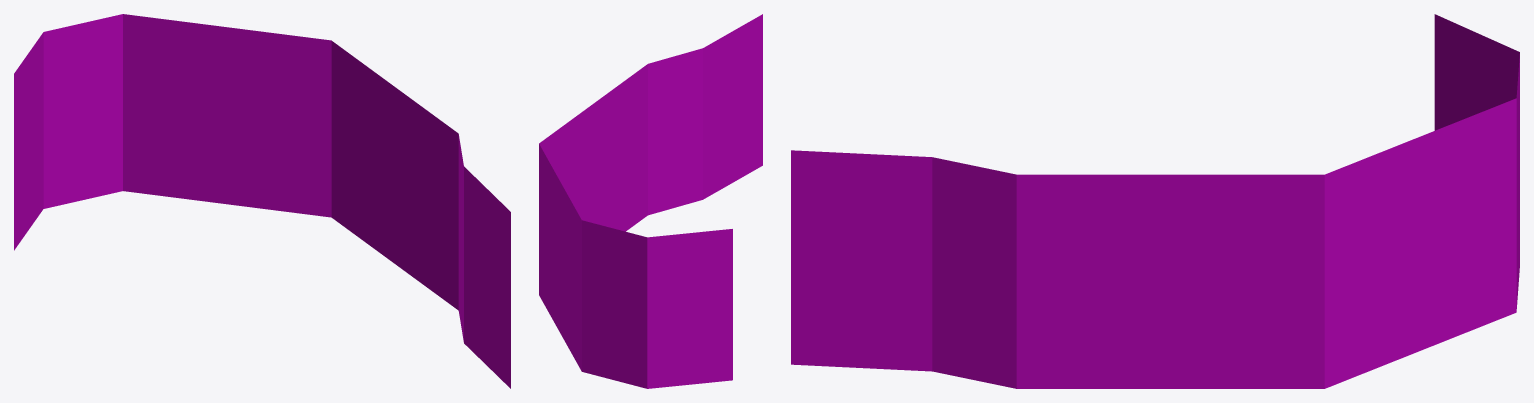
File: M5A_Zone1_CliffPoly2.glb
3 renders of one model, left to right at view 1: azimuth 30°, elevation 25°; view 2: azimuth 150°, elevation 25°; view 3: azimuth 270°, elevation 25°, orthographic. The views are drawn at different scales.
Visible parts, largest first — view 1: M5A_ZONE1_CLIFFPOLY2; view 2: M5A_ZONE1_CLIFFPOLY2; view 3: M5A_ZONE1_CLIFFPOLY2.
Part boxes in pixels (box(x1,y1,x2,y2)): M5A_ZONE1_CLIFFPOLY2: box(14, 14, 510, 388); M5A_ZONE1_CLIFFPOLY2: box(539, 14, 762, 388); M5A_ZONE1_CLIFFPOLY2: box(791, 14, 1519, 388).
Bounding box in the file's own units: 36.96 × 23 × 70.88.
